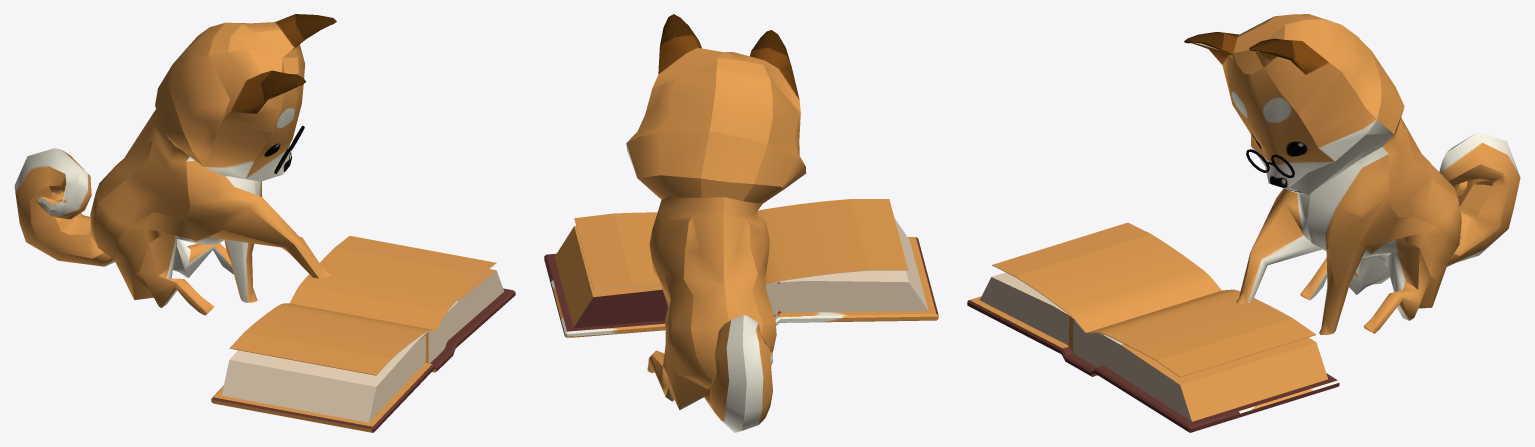
File: book_frame50.obj
The picture shows the model from 3 angles, left to right: view 1: azimuth 30°, elevation 25°; view 2: azimuth 150°, elevation 25°; view 3: azimuth 270°, elevation 25°; orthographic projection. The views are drawn at different scales.
Visible parts, largest first — view 1: StidyGlasses_Computer_Sitting:Sitting:newRigging:BodzL1, polySurface1; view 2: StidyGlasses_Computer_Sitting:Sitting:newRigging:BodzL1, polySurface1; view 3: StidyGlasses_Computer_Sitting:Sitting:newRigging:BodzL1, polySurface1.
Boxes of the visible parts, left/top/right/bottom form: StidyGlasses_Computer_Sitting:Sitting:newRigging:BodzL1: left=14, top=14, right=336, bottom=315; polySurface1: left=211, top=236, right=515, bottom=432; StidyGlasses_Computer_Sitting:Sitting:newRigging:BodzL1: left=626, top=14, right=806, bottom=432; polySurface1: left=544, top=199, right=938, bottom=337; StidyGlasses_Computer_Sitting:Sitting:newRigging:BodzL1: left=1184, top=14, right=1520, bottom=335; polySurface1: left=967, top=222, right=1339, bottom=432.
Bounding box in the file's own units: 8.86 × 7.06 × 11.37.
Materials: 4 (4 with a texture image).
